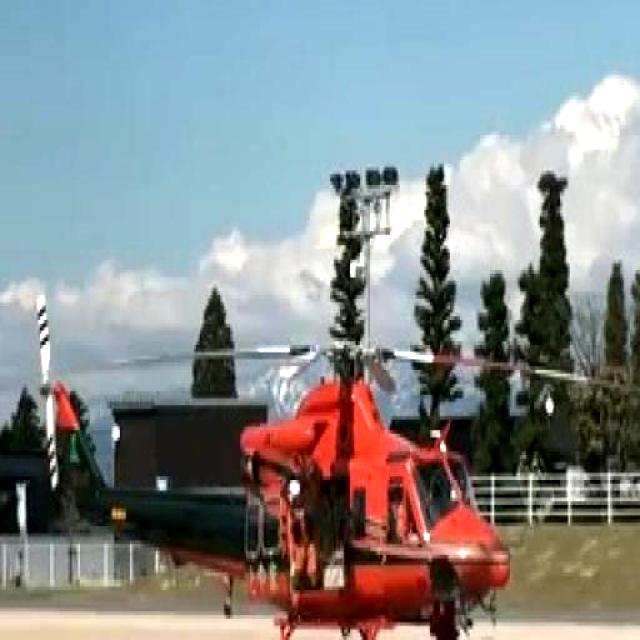drone: (29, 270, 640, 640)
